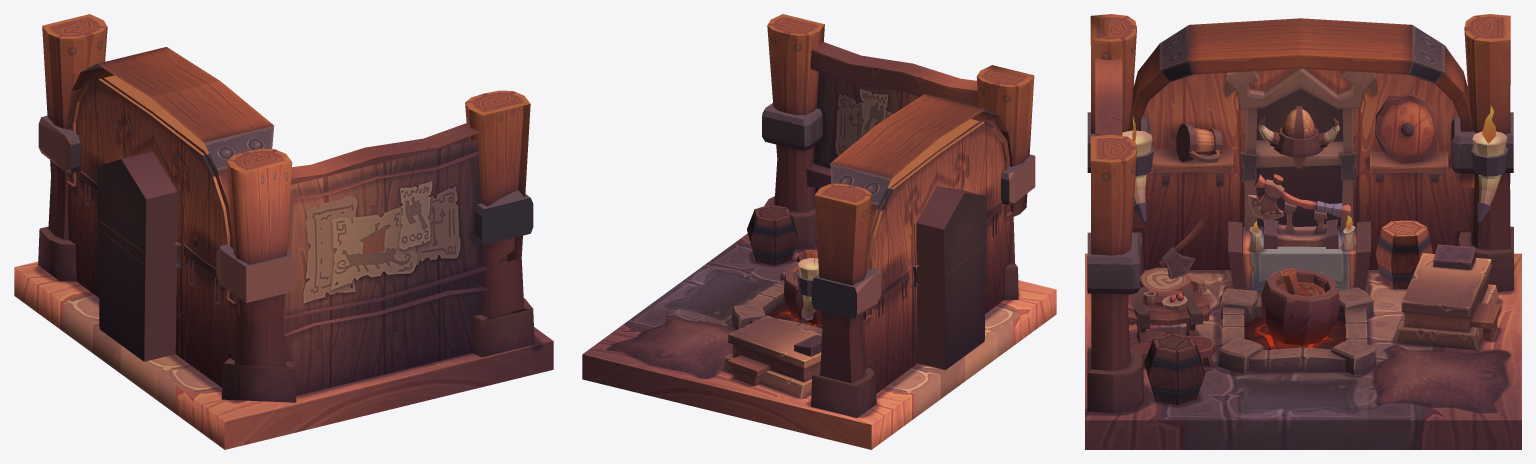
File: viking-room.obj
The picture shows the model from 3 angles, left to right: view 1: azimuth 30°, elevation 25°; view 2: azimuth 150°, elevation 25°; view 3: azimuth 270°, elevation 25°; orthographic projection. The views are drawn at different scales.
Parts seen in each view (by area): view 1: mesh_all1_Mesh; view 2: mesh_all1_Mesh; view 3: mesh_all1_Mesh.
Part boxes in pixels (x1=…): mesh_all1_Mesh: x1=14, y1=14, x2=553, y2=449; mesh_all1_Mesh: x1=582, y1=14, x2=1056, y2=449; mesh_all1_Mesh: x1=1085, y1=14, x2=1521, y2=449.
Size of the model in its own units: 2.37 by 1.86 by 2.63.
